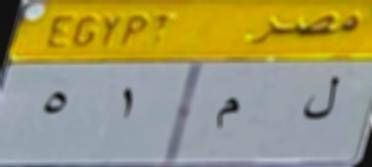1: (112, 78, 148, 120)
5: (31, 86, 84, 114)
laam: (294, 75, 344, 124)
meem: (212, 90, 244, 135)
